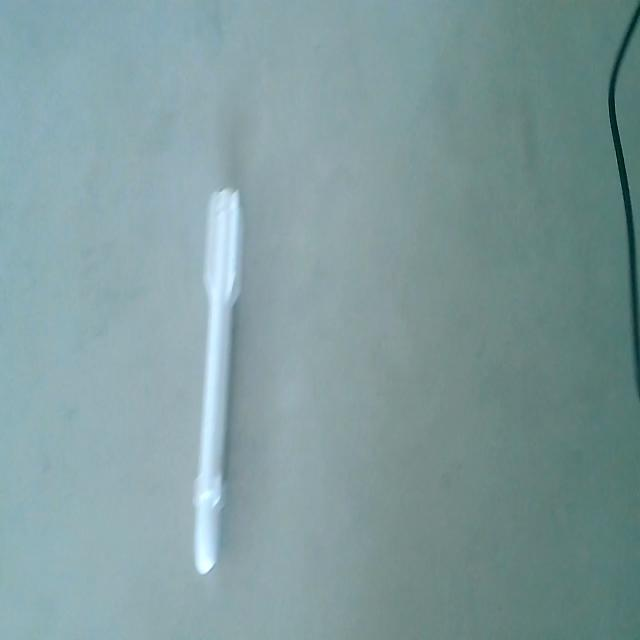Rocket: (193, 184, 246, 575)
